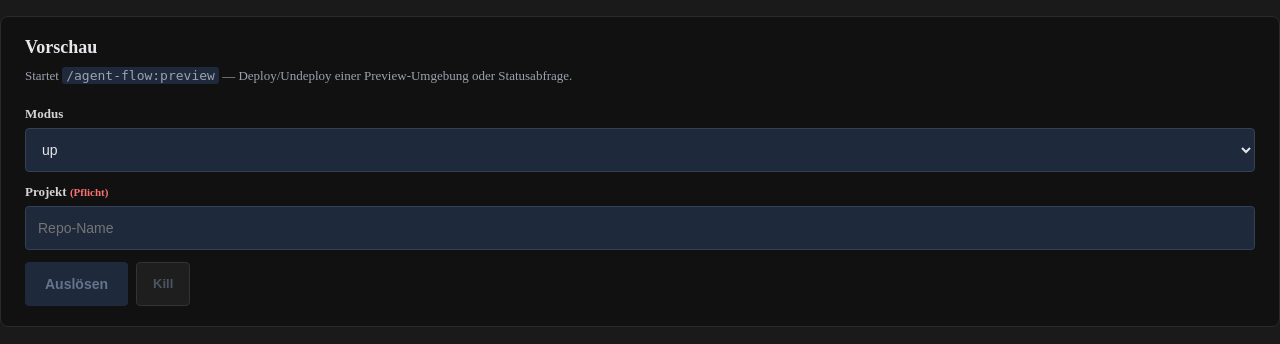
Scenario: cockpit-declutter AC7 — PreviewSection rendert „Vorschau"-Bereich › Modus "list" zeigt KEIN Projektfeld, "Auslösen" sofort aktivierbar
Select "list" in the dropdown with test id "preview-mode-select" at (640, 150), box [25,128,1255,172]
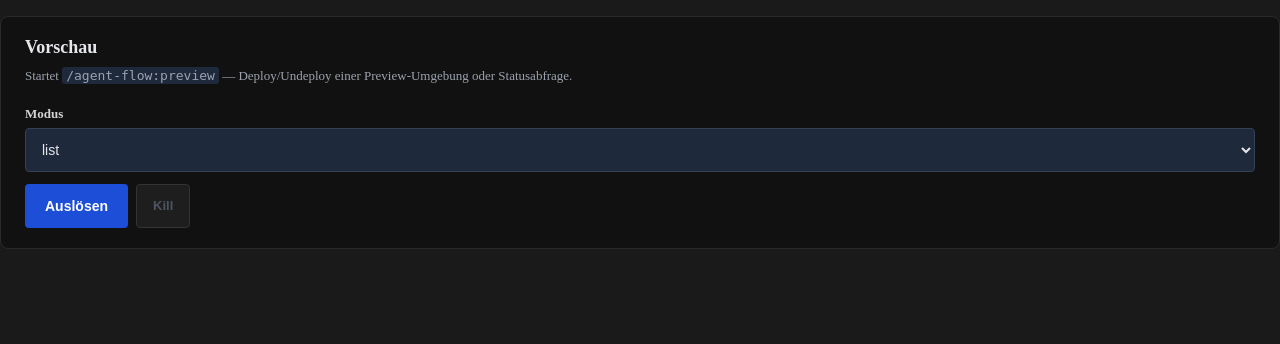
Now the field with test id "preview-repo-textinput" is gone
Now the button with test id "preview-fire-btn" is enabled, box [25,184,128,228]
